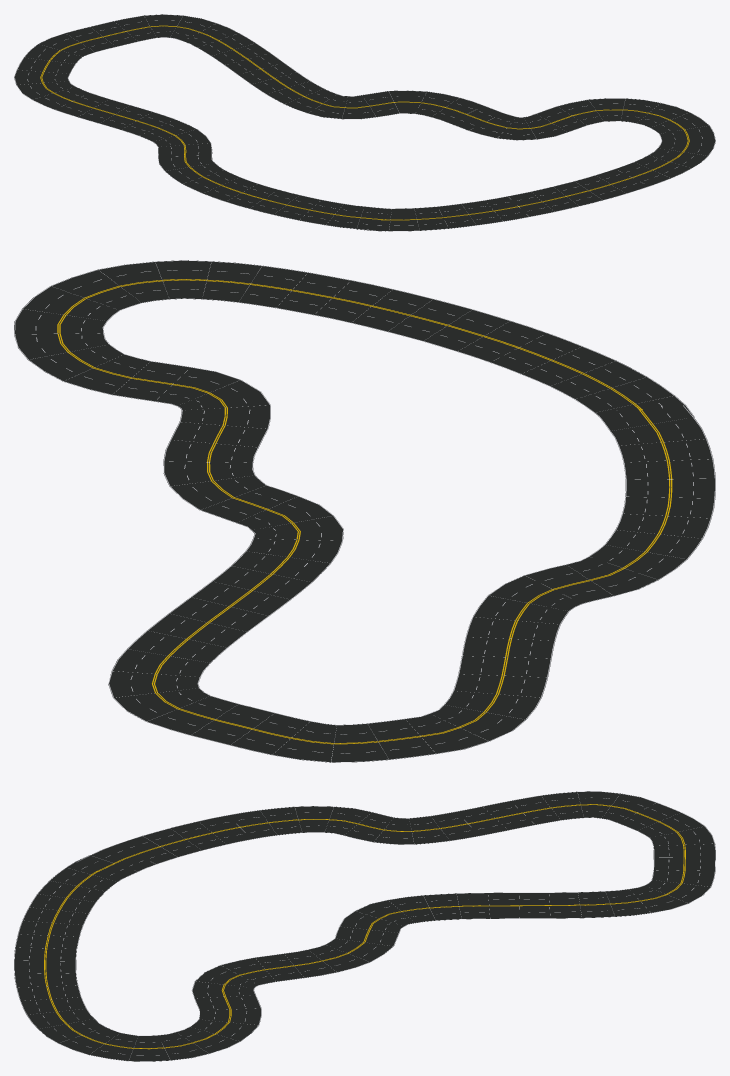
File: track01.fbx
The picture shows the model from 3 angles, top to bottom: view 1: azimuth 30°, elevation 25°; view 2: azimuth 150°, elevation 25°; view 3: azimuth 270°, elevation 25°; orthographic projection. The views are drawn at different scales.
Visible parts, largest first — view 1: Plane; view 2: Plane; view 3: Plane.
Part boxes in pixels (x1,y1,x2,y2): Plane: [14, 14, 715, 231]; Plane: [14, 260, 715, 762]; Plane: [14, 791, 715, 1061].
Bounding box in the file's own units: 8249 × 17.12 × 9046.
